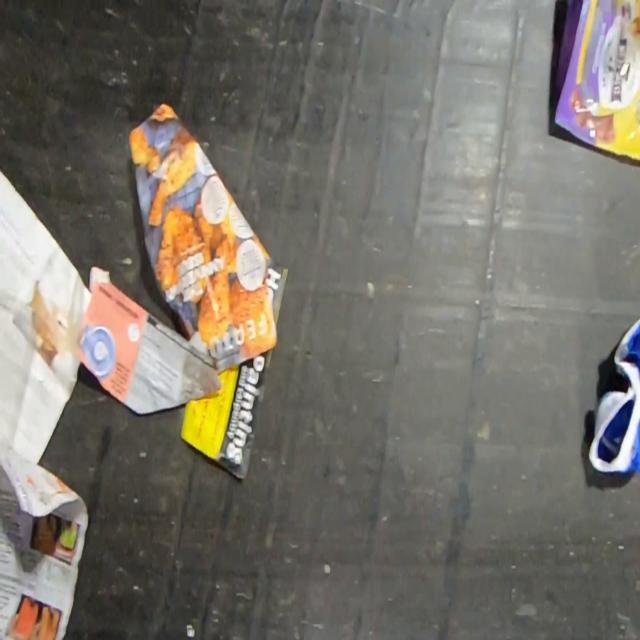soft_plastic: (552, 0, 640, 165)
